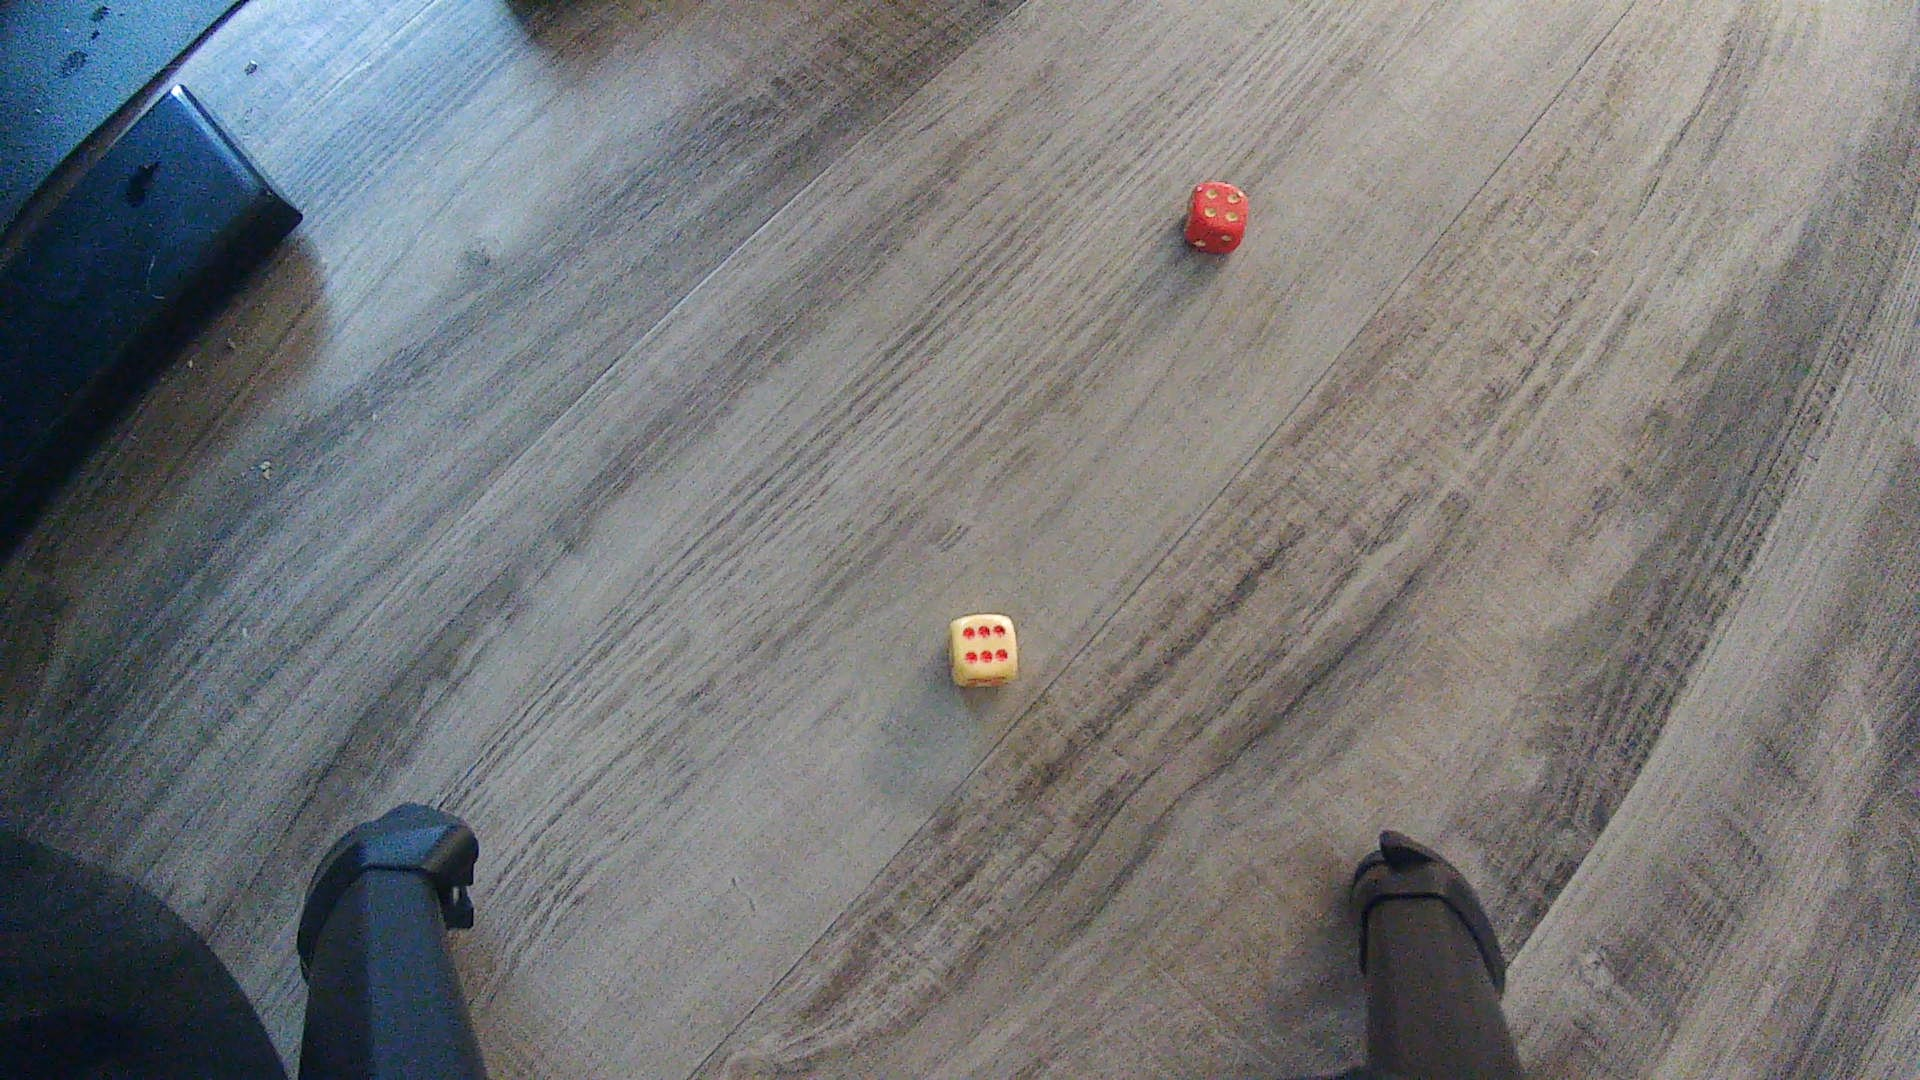die: (945, 611, 1021, 691), (1182, 181, 1250, 255)
